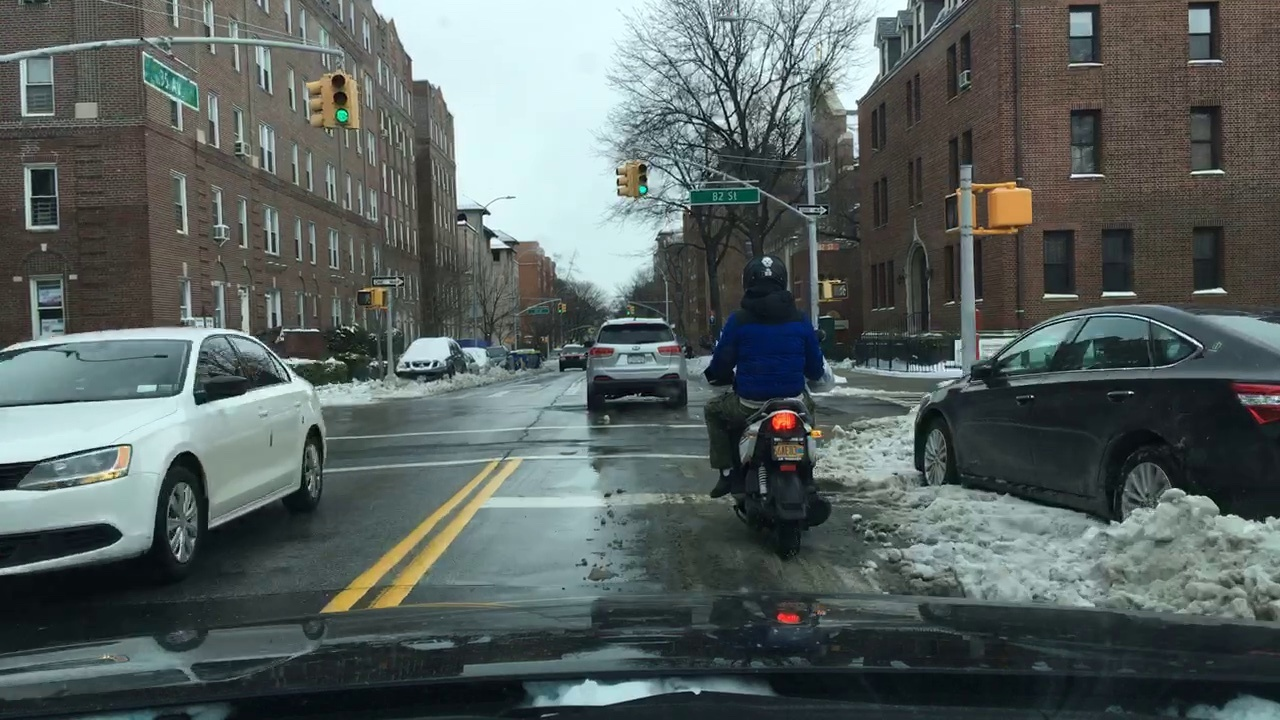car: (911, 304, 1280, 536), (1, 329, 330, 578), (588, 318, 689, 414), (397, 335, 474, 383), (557, 343, 587, 367)
motorcycle: (711, 386, 835, 561)
person: (705, 258, 834, 500)
traffic light: (299, 58, 365, 140), (610, 155, 658, 203)
